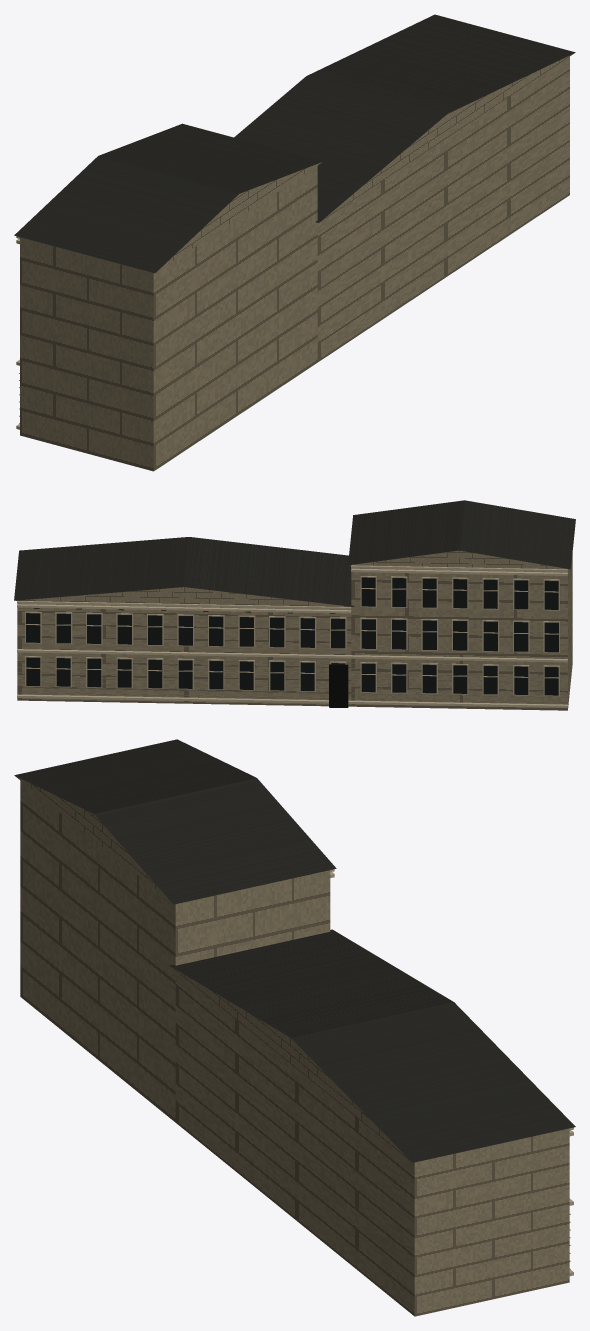
The picture shows the model from 3 angles, top to bottom: view 1: azimuth 30°, elevation 25°; view 2: azimuth 150°, elevation 25°; view 3: azimuth 270°, elevation 25°; orthographic projection. The views are drawn at different scales.
Parts seen in each view (by area): view 1: stadstimmerhuis-haringvliet4-0, stadstimmerhuis-haringvliet4-1; view 2: stadstimmerhuis-haringvliet4-0, stadstimmerhuis-haringvliet4-1, stadstimmerhuis-haringvliet4-3, stadstimmerhuis-haringvliet4-2, stadstimmerhuis-haringvliet4-4, stadstimmerhuis-haringvliet4-5; view 3: stadstimmerhuis-haringvliet4-0, stadstimmerhuis-haringvliet4-1.
Part boxes in pixels (left/top/right/bottom): stadstimmerhuis-haringvliet4-0: left=20, top=53, right=574, bottom=471; stadstimmerhuis-haringvliet4-1: left=14, top=14, right=575, bottom=273; stadstimmerhuis-haringvliet4-0: left=16, top=550, right=572, bottom=710; stadstimmerhuis-haringvliet4-1: left=14, top=500, right=575, bottom=606; stadstimmerhuis-haringvliet4-3: left=26, top=577, right=558, bottom=695; stadstimmerhuis-haringvliet4-2: left=17, top=565, right=567, bottom=707; stadstimmerhuis-haringvliet4-4: left=17, top=657, right=567, bottom=702; stadstimmerhuis-haringvliet4-5: left=34, top=608, right=348, bottom=707; stadstimmerhuis-haringvliet4-0: left=15, top=776, right=569, bottom=1316; stadstimmerhuis-haringvliet4-1: left=14, top=739, right=575, bottom=1162.
Bounding box in the file's own units: 44.33 × 14.2 × 29.3.
Materials: 6 (6 with a texture image).
